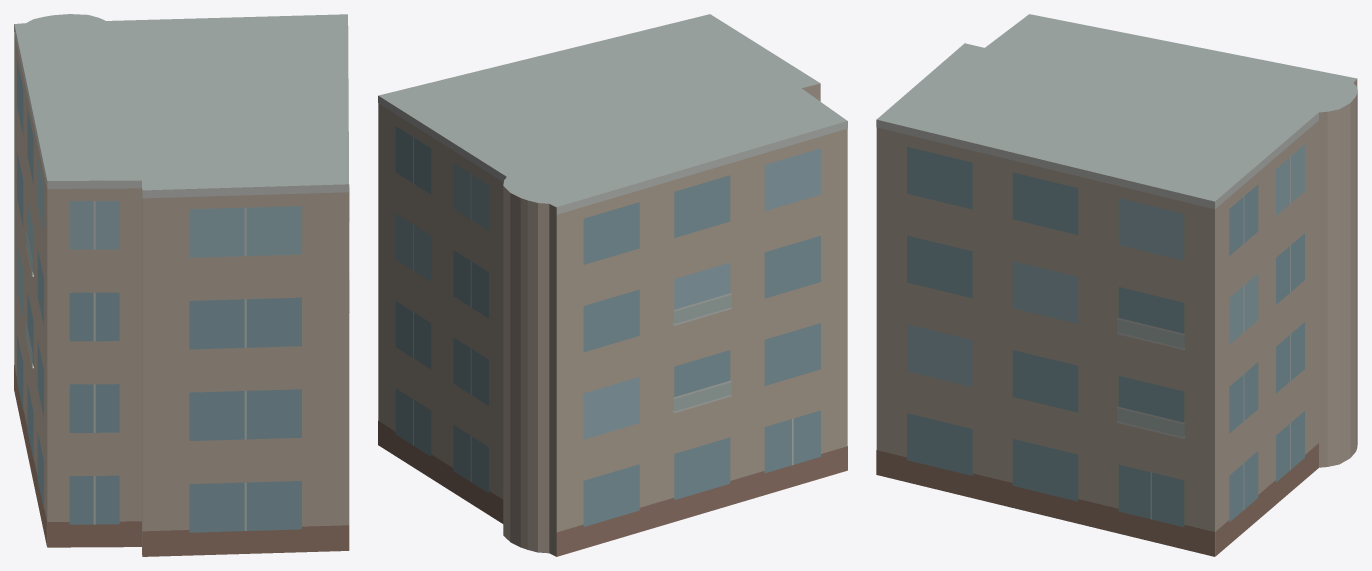
Rendered from survey-upis-32680492.glb.
3 views of the same model, side by side, from view 1: azimuth 30°, elevation 25°; view 2: azimuth 150°, elevation 25°; view 3: azimuth 270°, elevation 25° (orthographic). The views are drawn at different scales.
Parts seen in each view (by area): view 1: survey-upis-32680492.tmp; view 2: survey-upis-32680492.tmp; view 3: survey-upis-32680492.tmp.
Part boxes in pixels (x1,y1,x2,y2): survey-upis-32680492.tmp: (14,14,349,556); survey-upis-32680492.tmp: (378,14,847,556); survey-upis-32680492.tmp: (876,14,1357,556).
Bounding box in the file's own units: 12.75 × 11.25 × 13.81.
